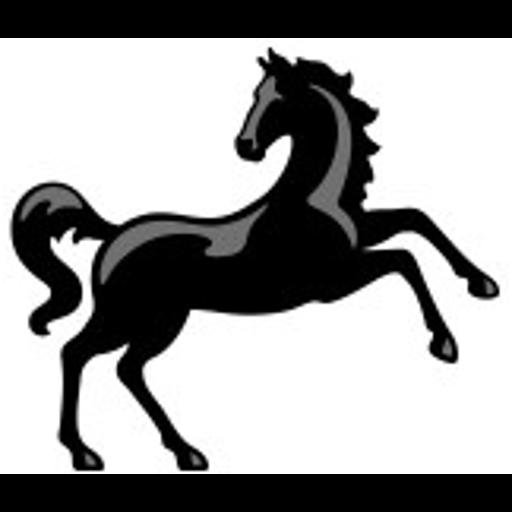Lloyds TSB Group: (0, 38, 512, 474)
